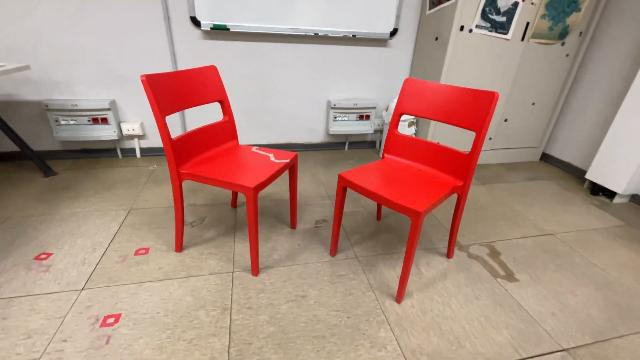Chair: (326, 74, 502, 307), (136, 62, 300, 280)
